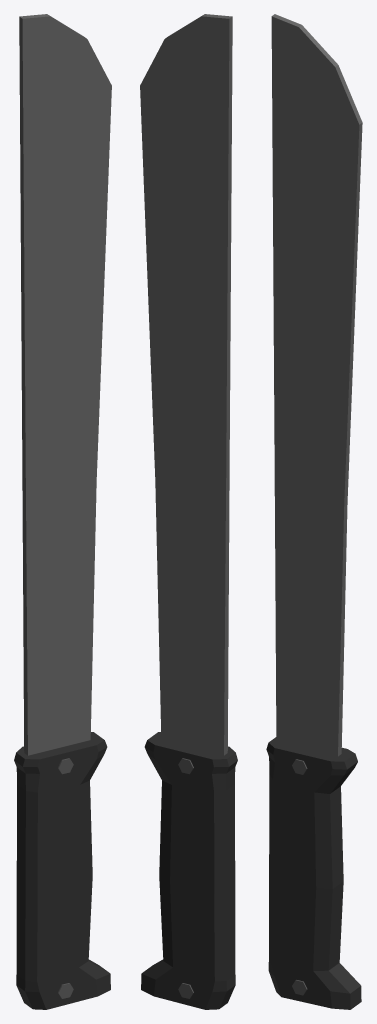
Rendered from Machete.fbx.
3 views of the same model, side by side, from view 1: azimuth 30°, elevation 25°; view 2: azimuth 150°, elevation 25°; view 3: azimuth 330°, elevation 25° (orthographic).
Parts seen in each view (by area): view 1: Machete; view 2: Machete; view 3: Machete.
Part boxes in pixels (x1=…): Machete: x1=14, y1=14, x2=111, y2=1009; Machete: x1=140, y1=14, x2=237, y2=1009; Machete: x1=266, y1=14, x2=362, y2=1009.
Bounding box in the file's own units: 99.54 × 1024 × 35.06.
1 material, 1 textured.
